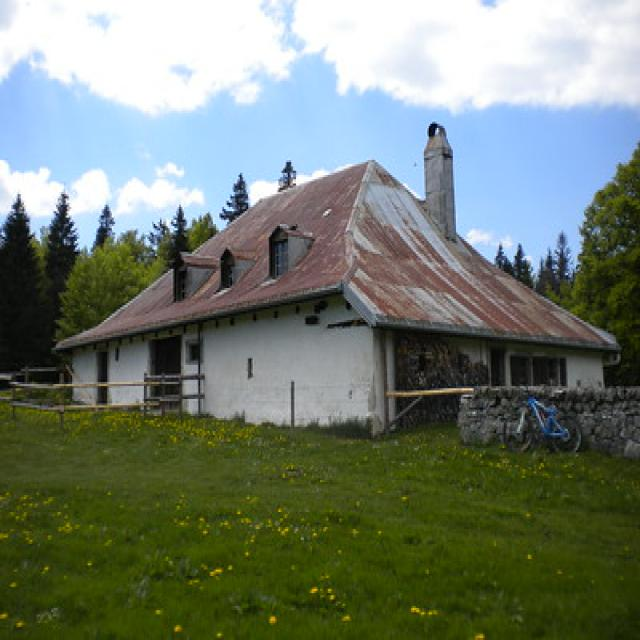building: (52, 119, 622, 438)
